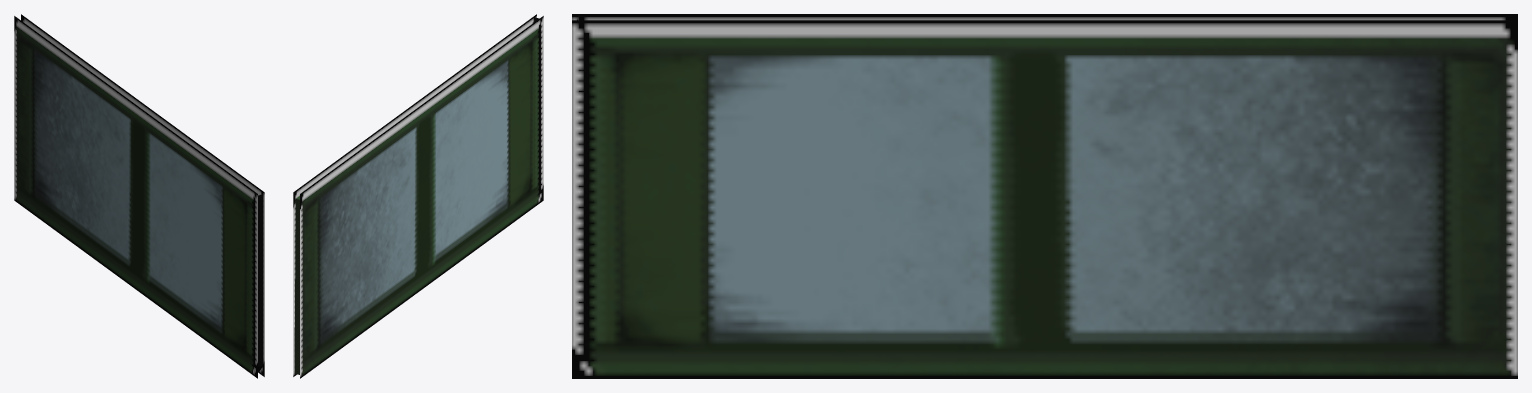
Rendered from pz_native_location_shop_greenes_01_13_frame.obj.
The picture shows the model from 3 angles, left to right: view 1: azimuth 30°, elevation 25°; view 2: azimuth 150°, elevation 25°; view 3: azimuth 270°, elevation 25°; orthographic projection. The views are drawn at different scales.
Visible parts, largest first — view 1: pz_native_location_shop_greenes_01_13_frame; view 2: pz_native_location_shop_greenes_01_13_frame; view 3: pz_native_location_shop_greenes_01_13_frame.
Part boxes in pixels (x1=…): pz_native_location_shop_greenes_01_13_frame: x1=14, y1=14, x2=264, y2=378; pz_native_location_shop_greenes_01_13_frame: x1=293, y1=14, x2=543, y2=378; pz_native_location_shop_greenes_01_13_frame: x1=572, y1=14, x2=1517, y2=378.
Size of the model in its own units: 0.04 by 1.06 by 2.54.
1 material, 1 textured.
